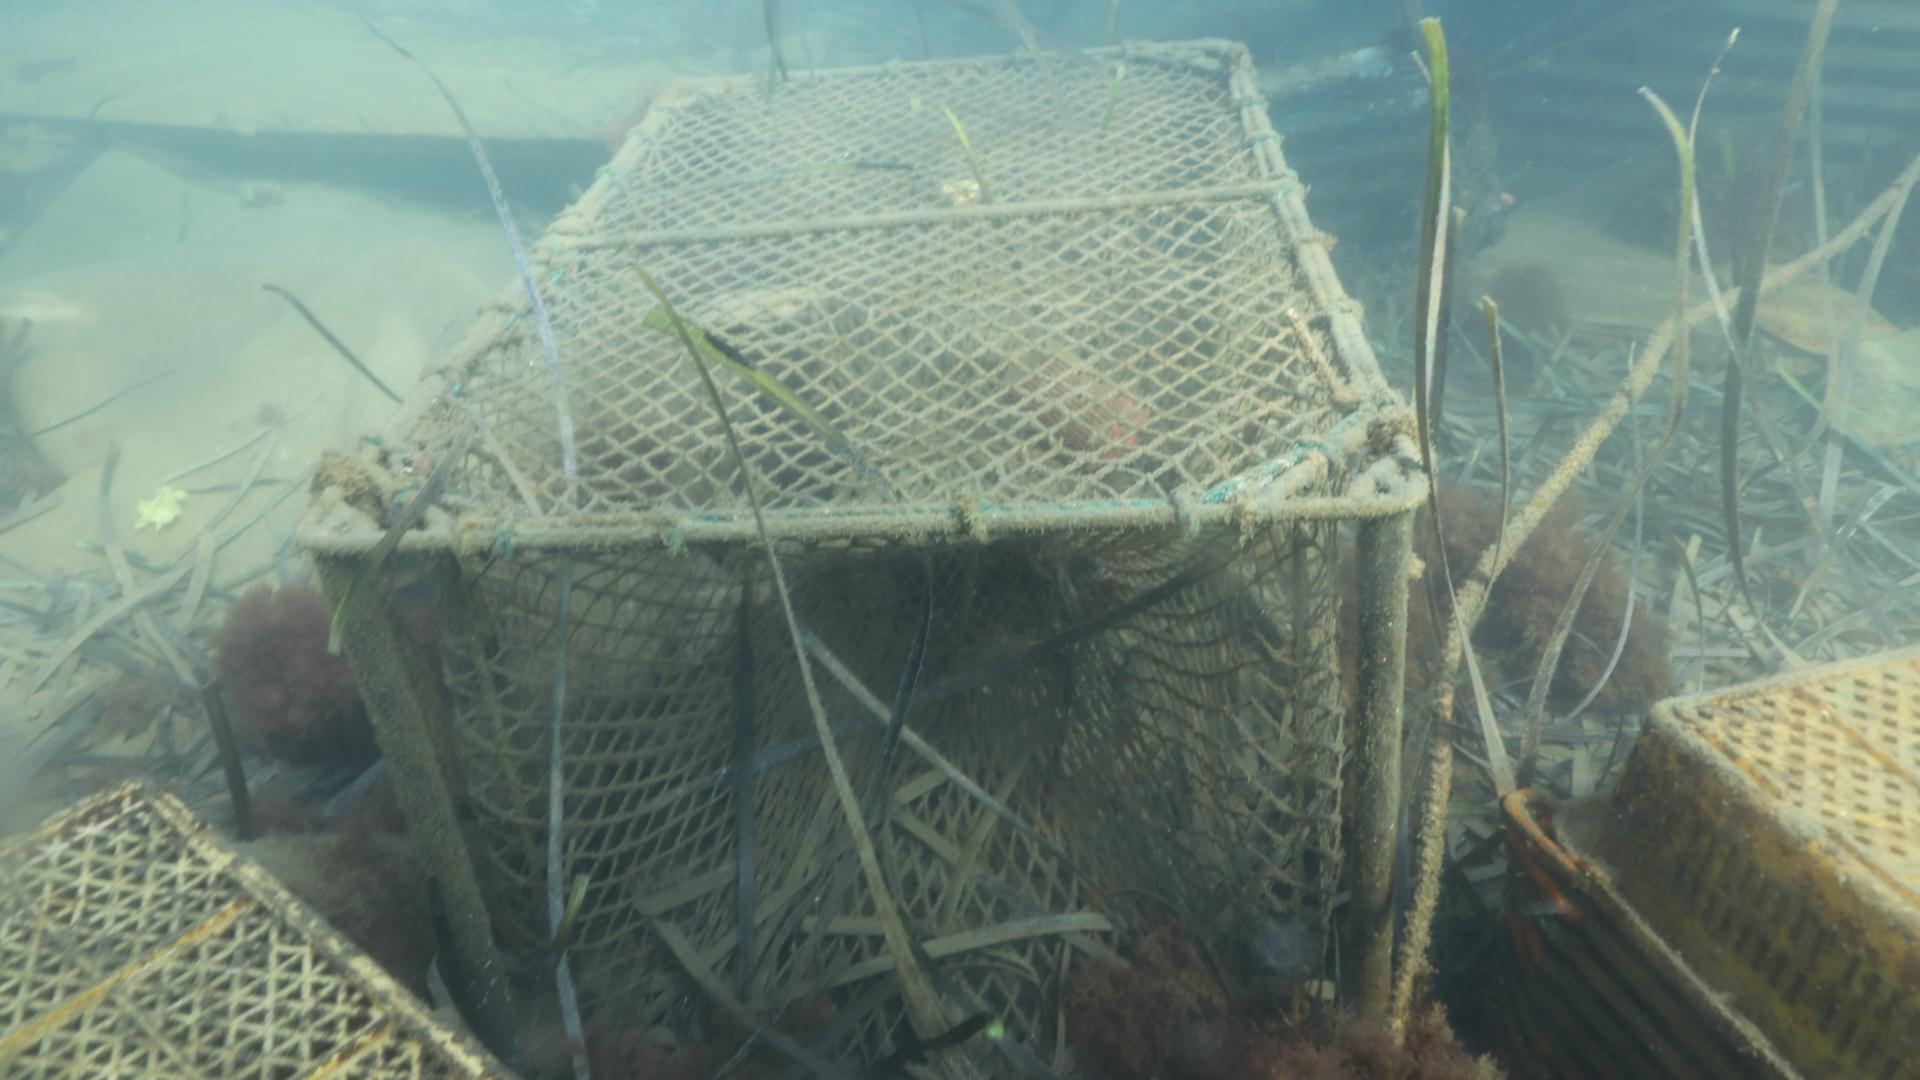rectangular fish trap: (301, 36, 1443, 1080)
rope: (1393, 149, 1920, 1019)
